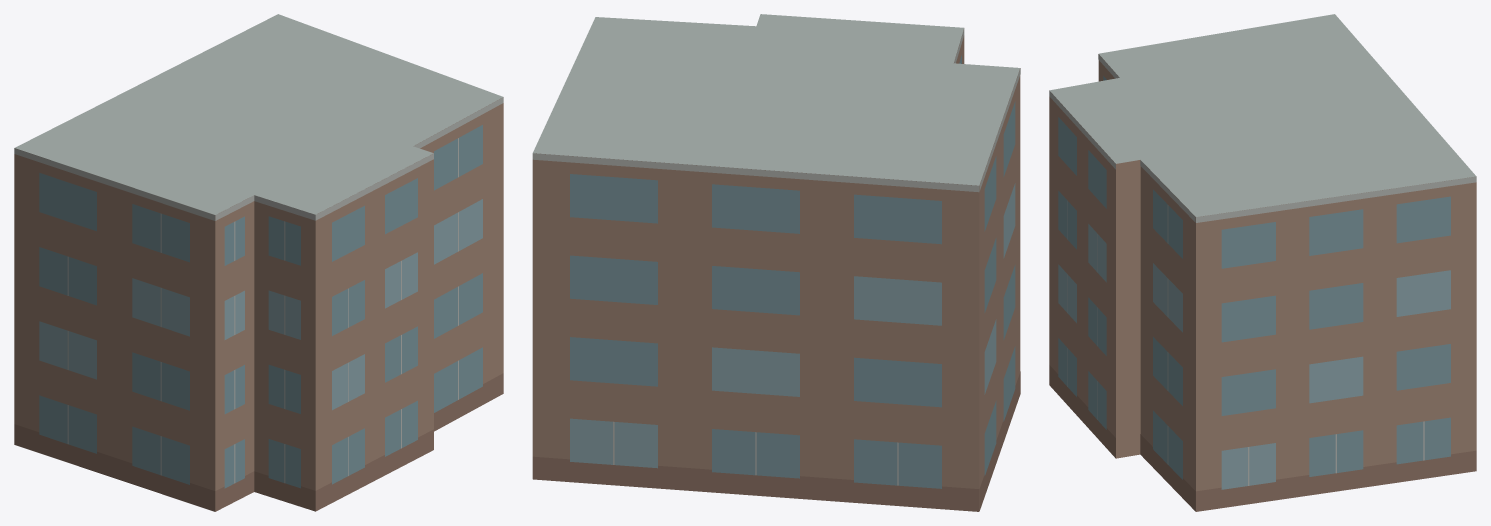
Rendered from survey-upis-32945521.glb.
The picture shows the model from 3 angles, left to right: view 1: azimuth 30°, elevation 25°; view 2: azimuth 150°, elevation 25°; view 3: azimuth 270°, elevation 25°; orthographic projection. The views are drawn at different scales.
Visible parts, largest first — view 1: survey-upis-32945521.tmp; view 2: survey-upis-32945521.tmp; view 3: survey-upis-32945521.tmp.
Part boxes in pixels (left/top/right/bottom): survey-upis-32945521.tmp: left=14, top=14, right=503, bottom=511; survey-upis-32945521.tmp: left=532, top=14, right=1020, bottom=511; survey-upis-32945521.tmp: left=1049, top=14, right=1476, bottom=511.
Size of the model in its own units: 17.93 by 12.12 by 15.93.
